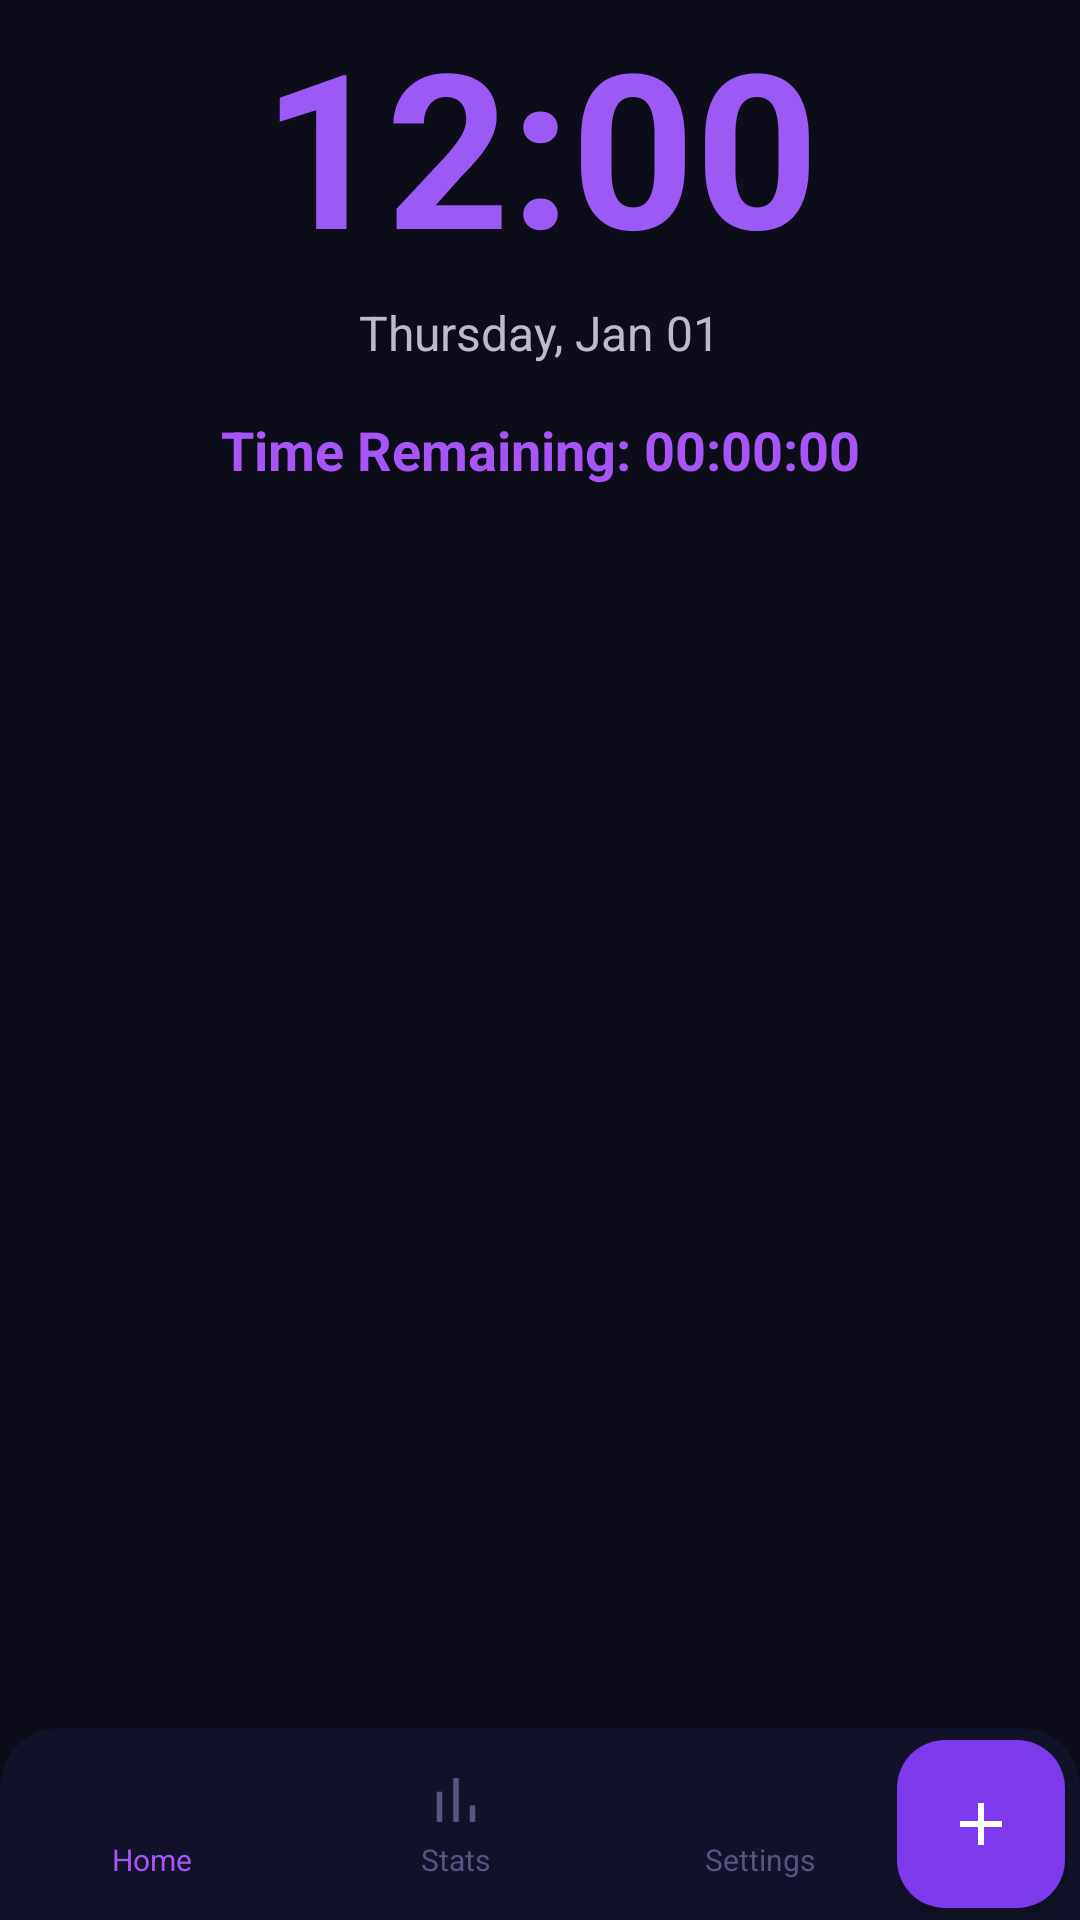

Icons on this 1080 × 1920 Android screen, each with its box as {"left": x1, "top": y1, "right": x2, "bottom": y2}:
Add: {"left": 897, "top": 1740, "right": 1065, "bottom": 1908}
